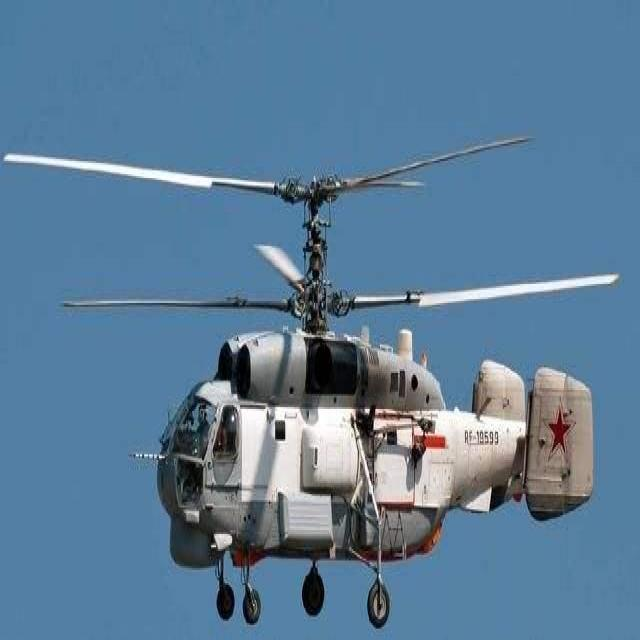MIL_HELO: (0, 133, 625, 631)
